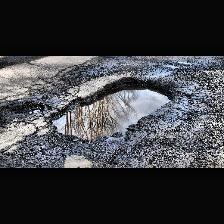pothole: (48, 76, 174, 142), (8, 100, 51, 114)
